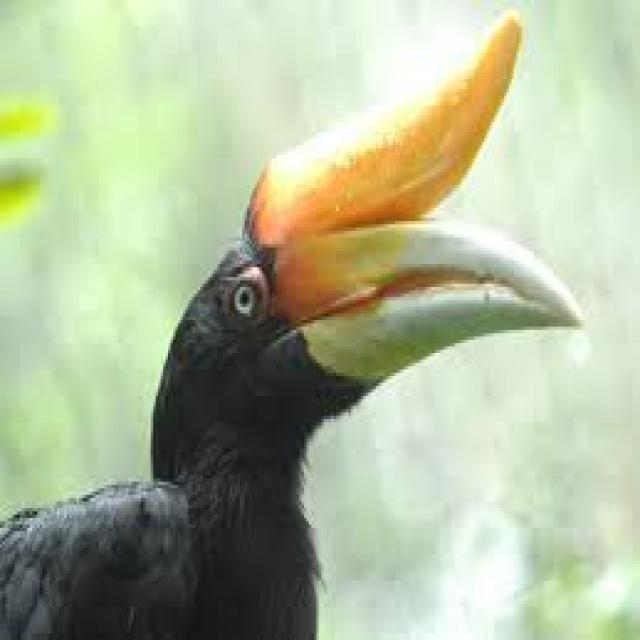Hornbill: (0, 23, 578, 640)
